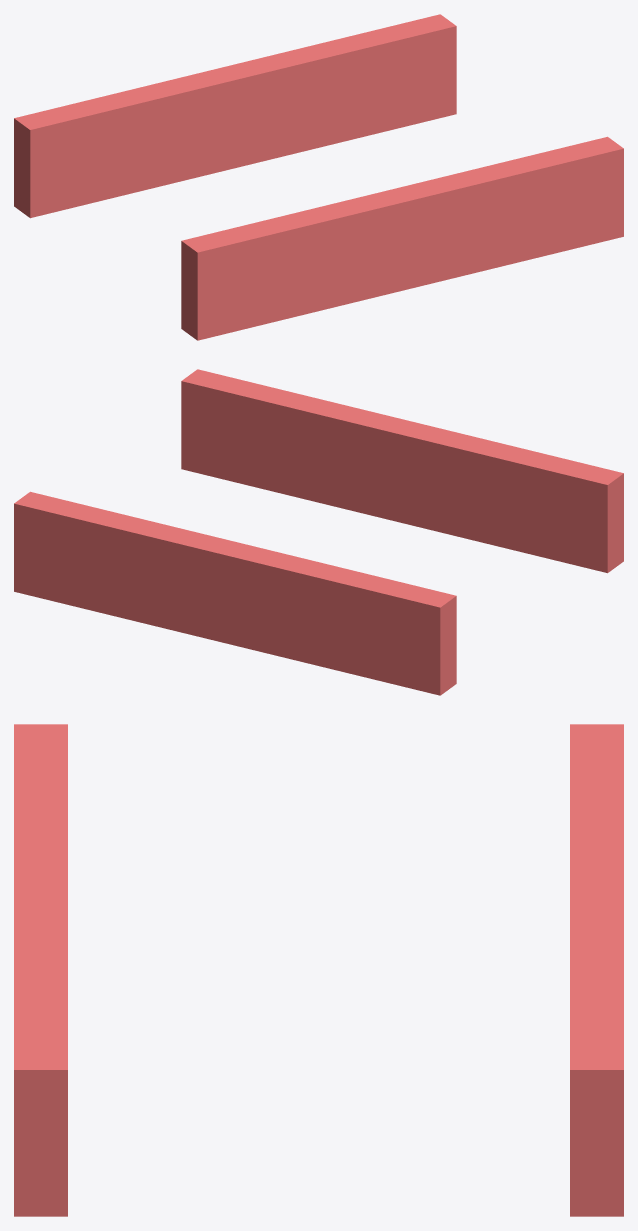
File: tower_2_plank_structure.dae
3 renders of one model, top to bottom at view 1: azimuth 30°, elevation 25°; view 2: azimuth 150°, elevation 25°; view 3: azimuth 270°, elevation 25°, orthographic. The views are drawn at different scales.
Visible parts, largest first — view 1: base (×2); view 2: base (×2); view 3: base (×2).
Boxes of the visible parts, <box> form: base (×2): <box>14,14,623,340</box>; base (×2): <box>14,369,623,695</box>; base (×2): <box>14,724,623,1216</box>.
Size of the model in its own units: 0.1177 by 0.0877 by 0.0232.
